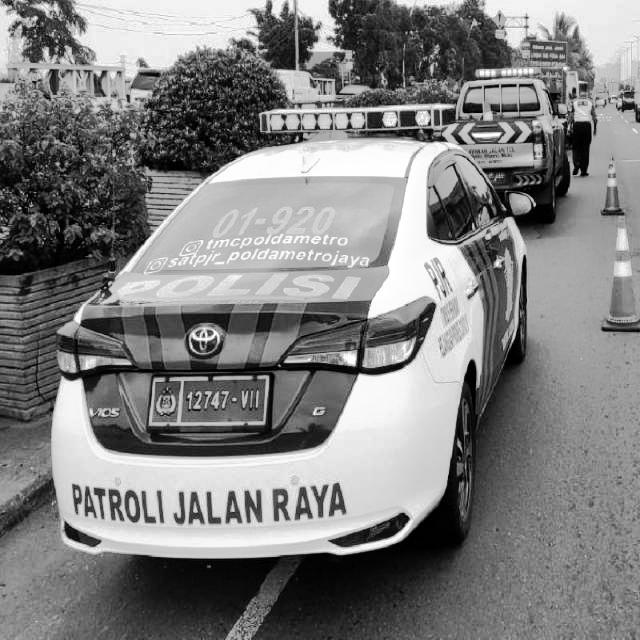Car: (54, 87, 533, 609), (438, 58, 576, 236)
